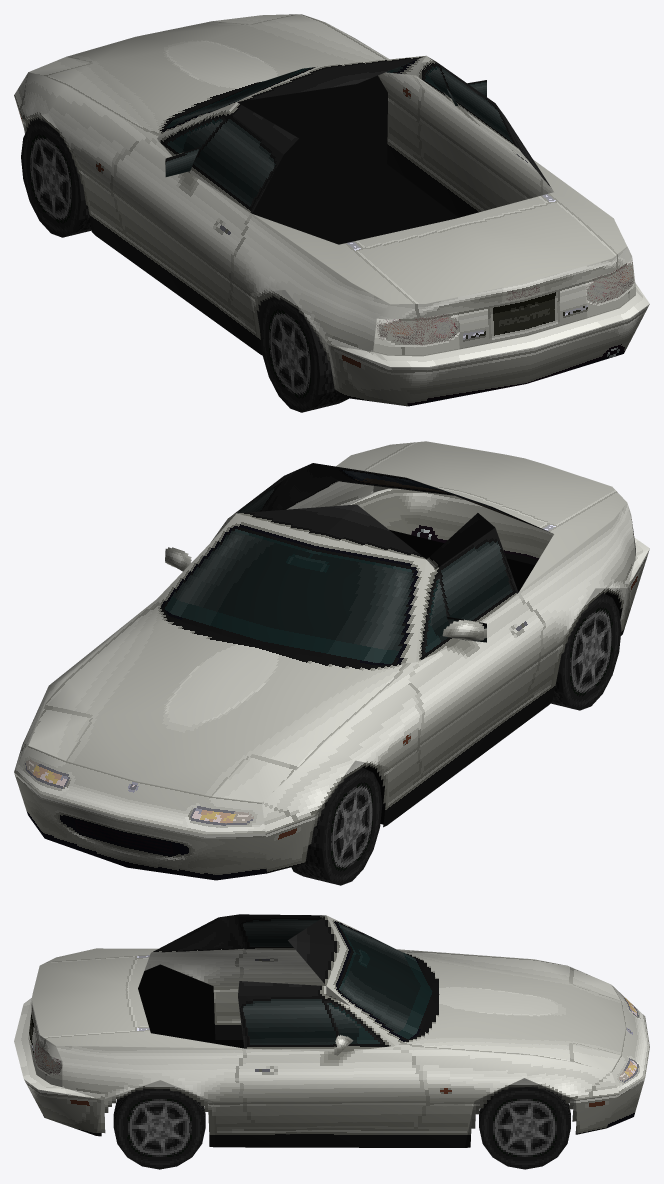
The model's file is GT_SIMULATION__AMIVN.glb.
3 renders of one model, top to bottom at view 1: azimuth 30°, elevation 25°; view 2: azimuth 150°, elevation 25°; view 3: azimuth 270°, elevation 25°, orthographic. The views are drawn at different scales.
Parts seen in each view (by area): view 1: Native body LOD0, Native wheel 2, Native wheel 0; view 2: Native body LOD0, Native wheel 0, Native wheel 2; view 3: Native body LOD0, Native wheel 1, Native wheel 3.
Part boxes in pixels (left/top/right/bottom): Native body LOD0: left=14, top=14, right=649, bottom=406; Native wheel 2: left=260, top=297, right=348, bottom=412; Native wheel 0: left=21, top=119, right=91, bottom=237; Native body LOD0: left=14, top=441, right=649, bottom=880; Native wheel 0: left=291, top=767, right=382, bottom=885; Native wheel 2: left=551, top=593, right=621, bottom=710; Native body LOD0: left=14, top=914, right=649, bottom=1147; Native wheel 1: left=479, top=1086, right=570, bottom=1169; Native wheel 3: left=113, top=1088, right=205, bottom=1169.
Size of the model in its own units: 1.76 by 1.19 by 3.95.
Materials: 13 (12 with a texture image).
